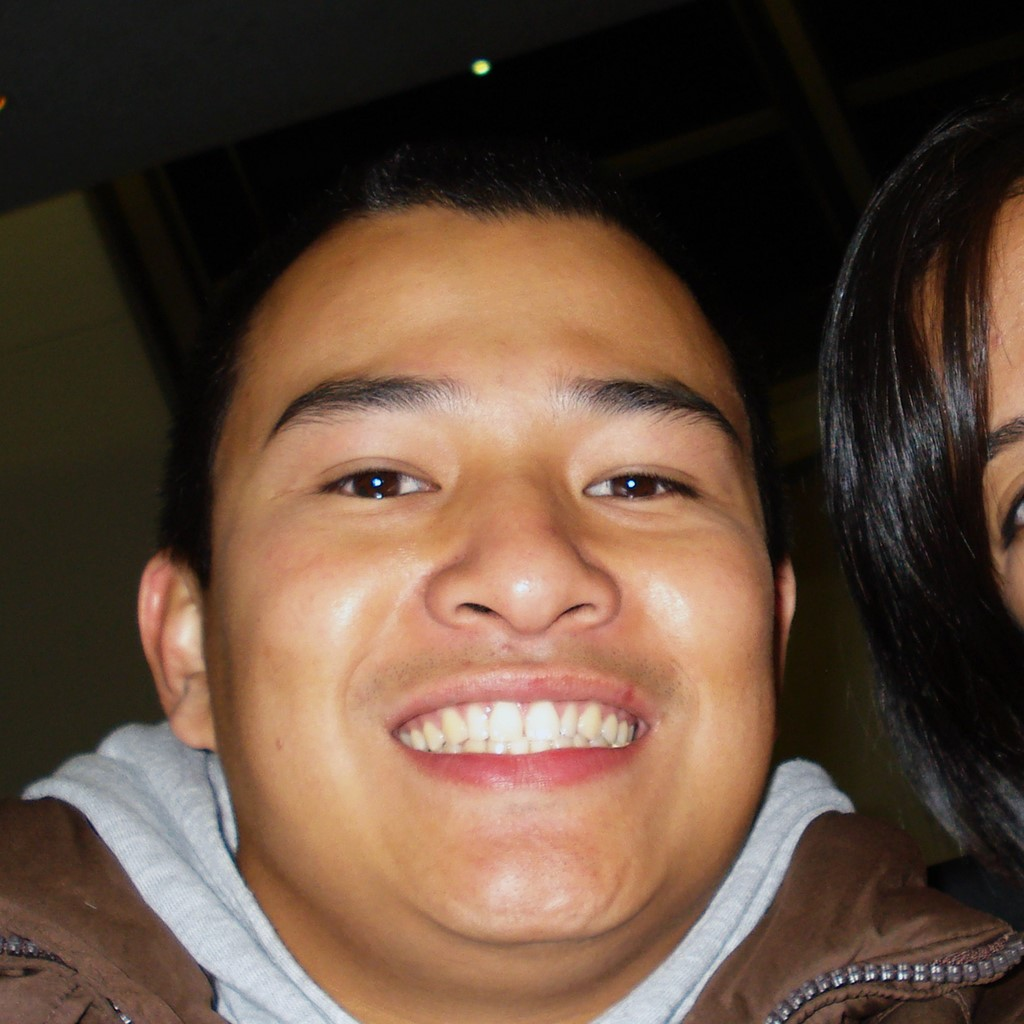sin_mascara: (194, 177, 799, 946)
